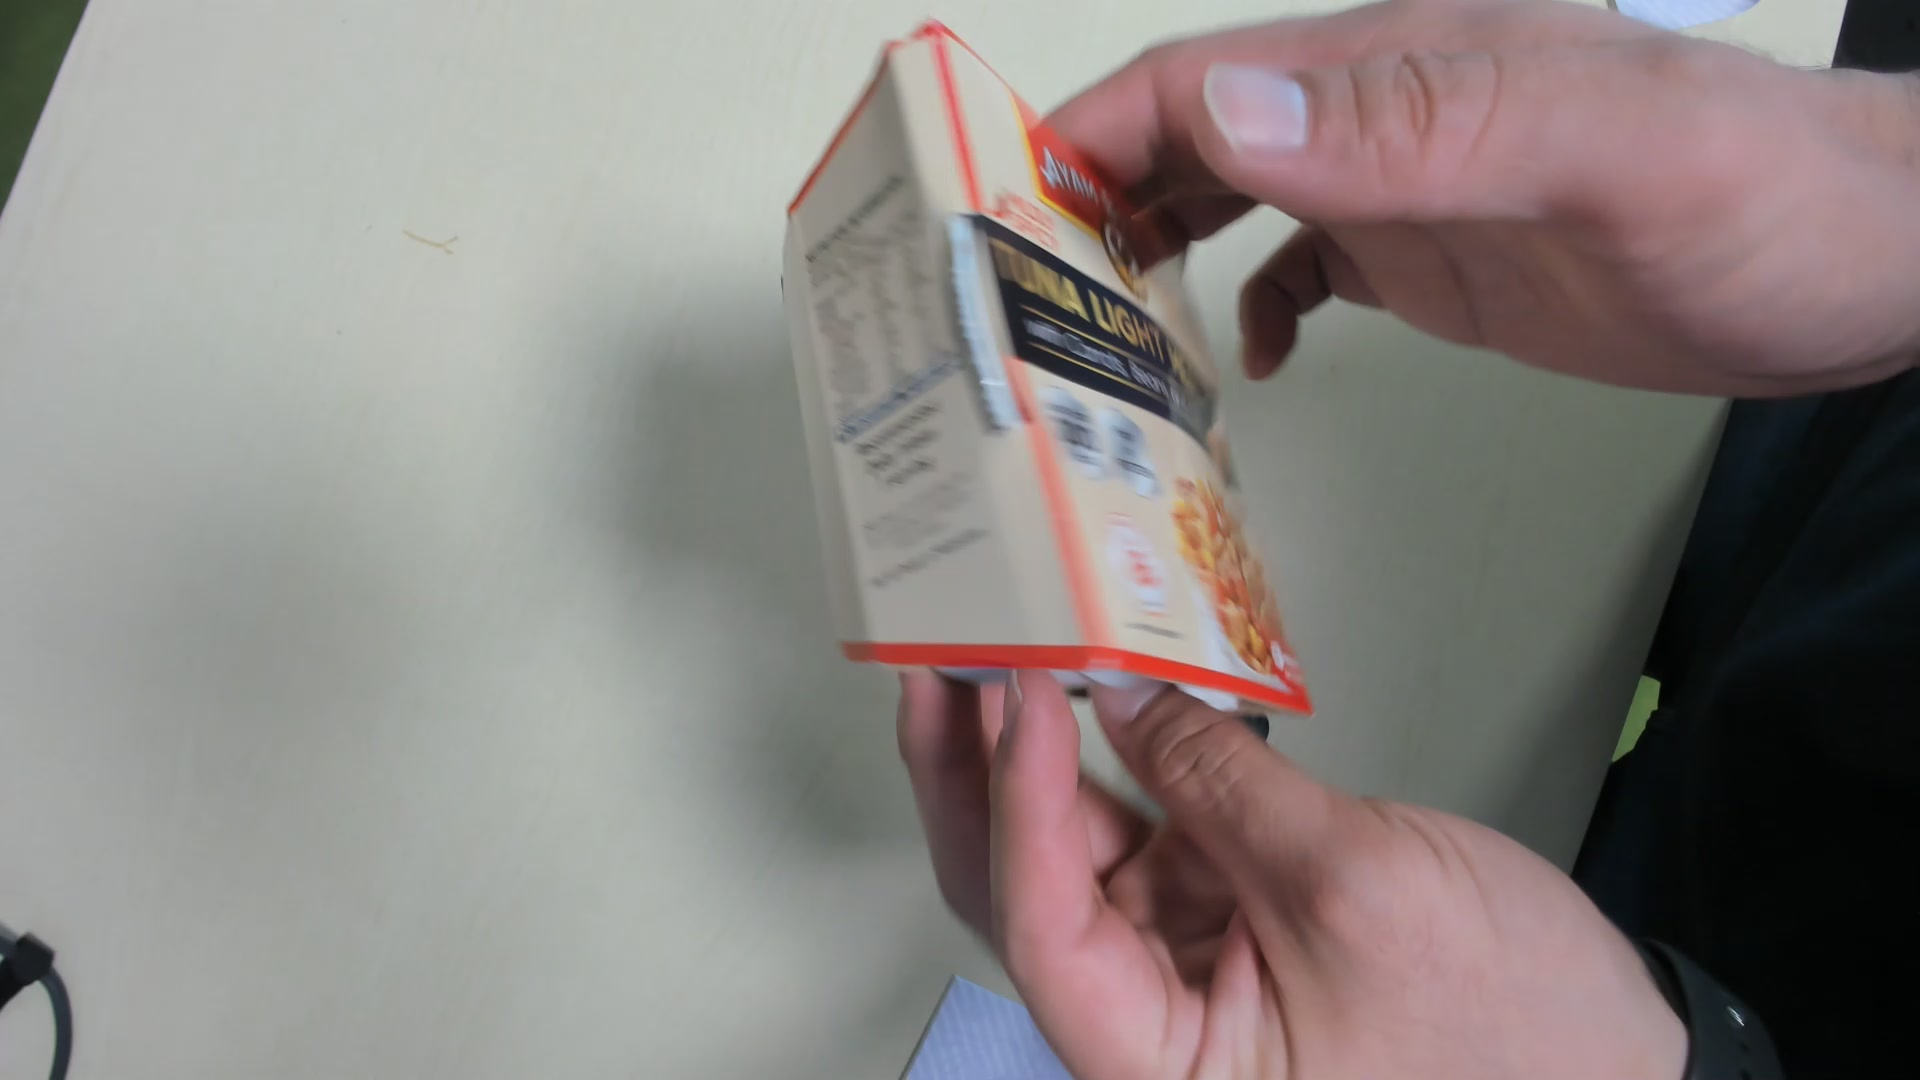InstantMeals_100-199g_NonHalal_Healthy: (786, 26, 1308, 721)
